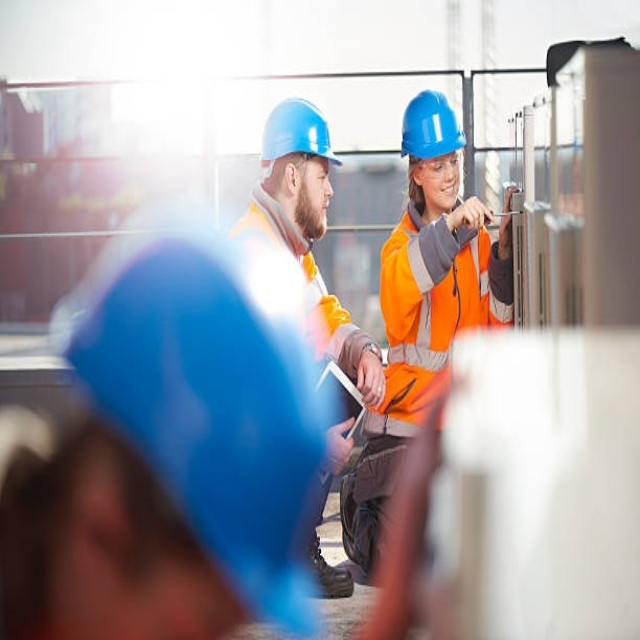Gafas: (415, 151, 463, 180)
Sin_gafas: (298, 162, 330, 185)
Sin_guantes: (320, 416, 359, 480), (354, 347, 387, 409), (494, 184, 521, 253), (453, 195, 494, 233)
Sin_mascara: (308, 196, 332, 226), (435, 184, 458, 201)
